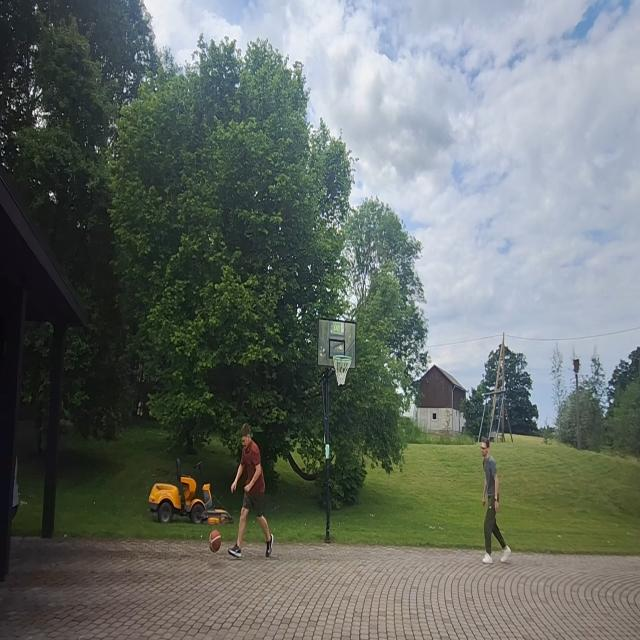ball: (208, 530, 222, 552)
basket: (332, 353, 352, 388)
player: (230, 421, 276, 568), (479, 435, 514, 565)
